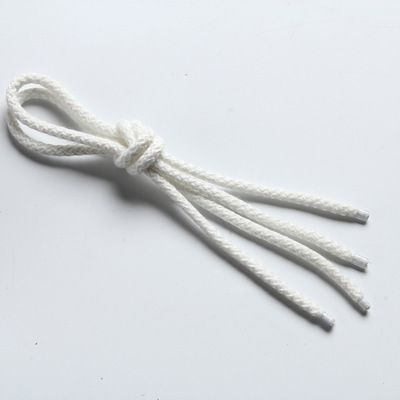9/可回收垃圾/绳子: (4, 71, 373, 331)
